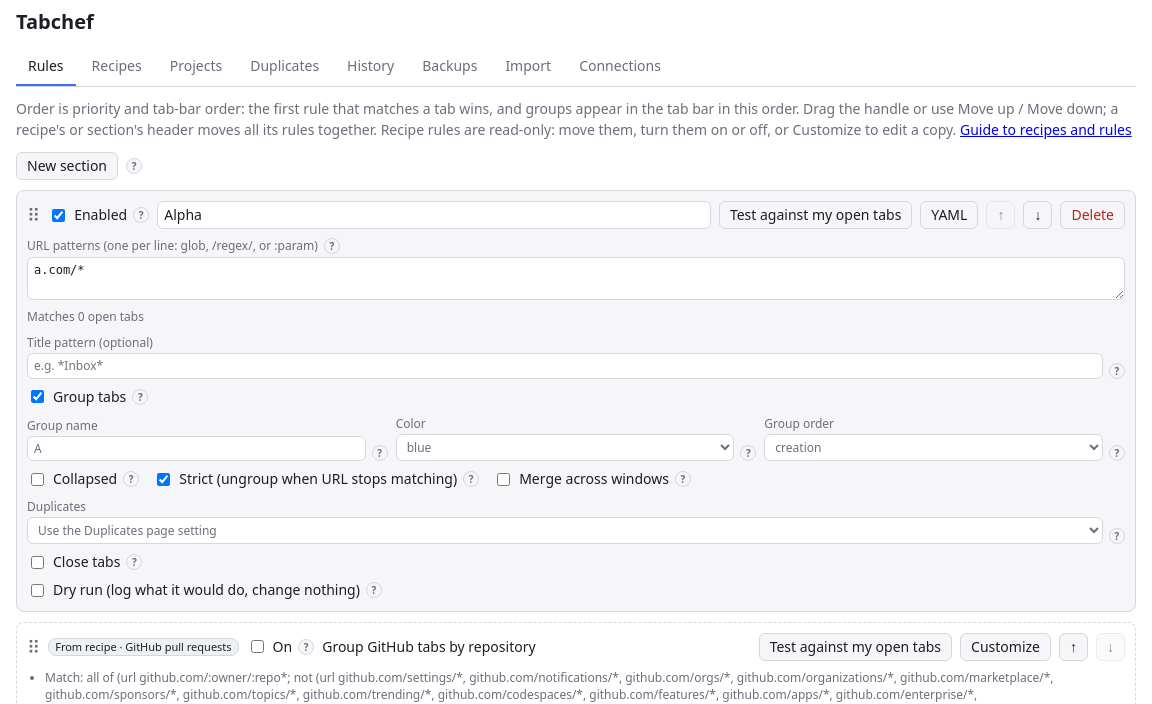
Test case: App: preview before Save (M2 T13) › a change with effects opens the dialog; Cancel sends no config.set and keeps the edits
Replace the text in the field named "Rule name" with "Edited": (434, 215) left=157, top=201, right=711, bottom=230
(page scrolled)
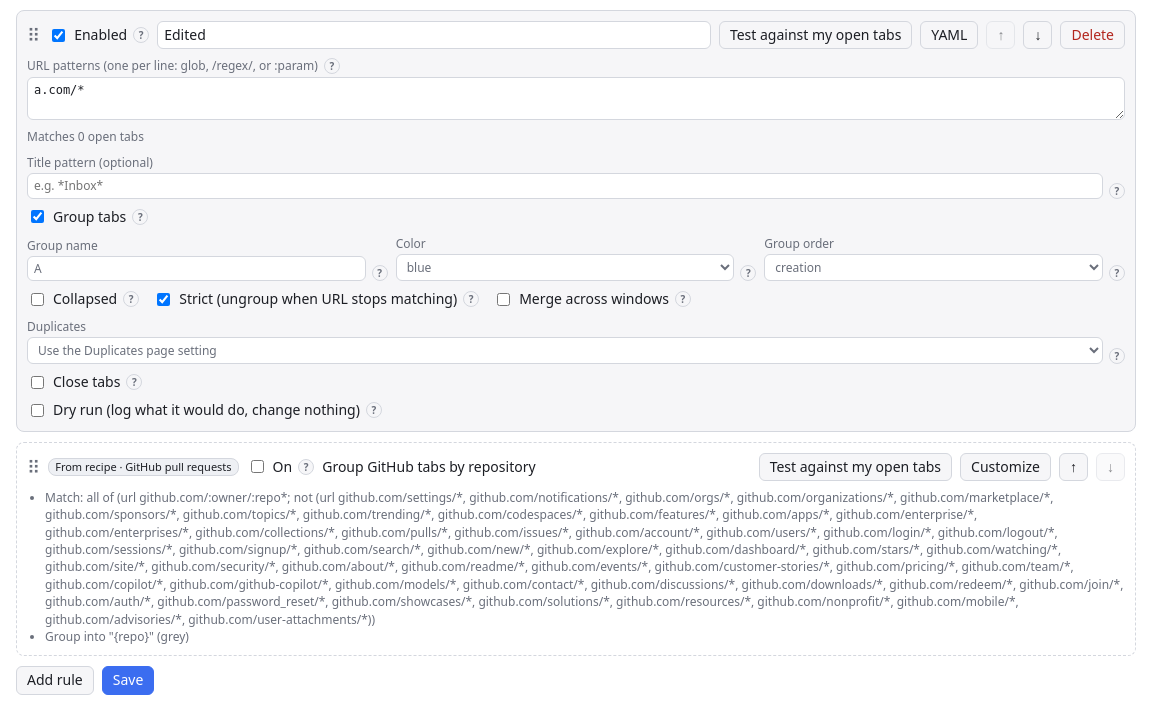
Click the button "Save": (128, 681) left=102, top=666, right=154, bottom=695
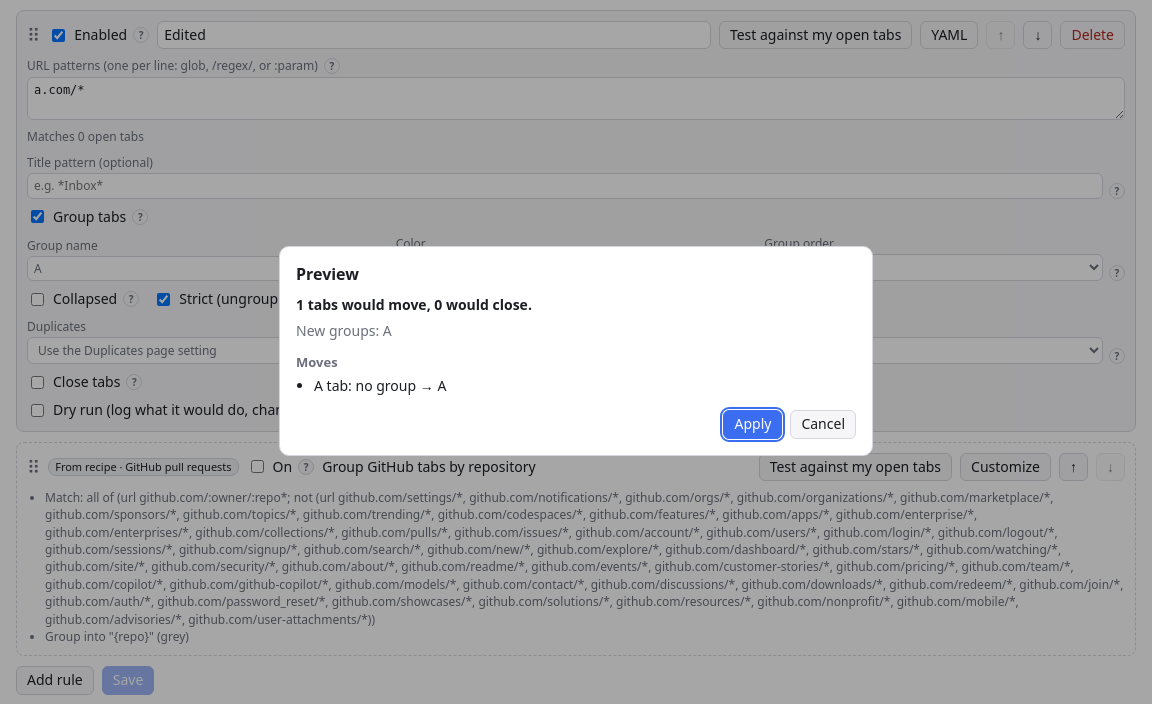
Result: the text "1 tabs would move, 0 would close." is shown at left=296, top=295, right=532, bottom=314
Click the button "Cancel": (823, 424) left=790, top=410, right=856, bottom=439
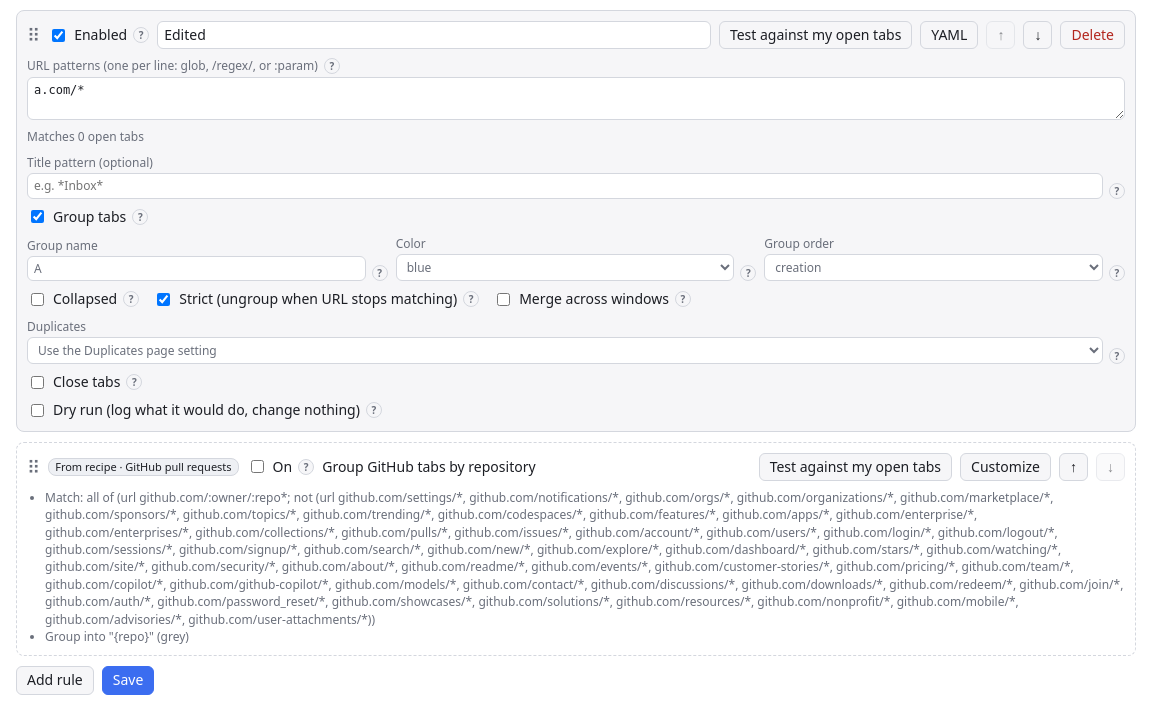
Result: the dialog is gone
Result: the button "Save" is enabled at left=102, top=666, right=154, bottom=695
